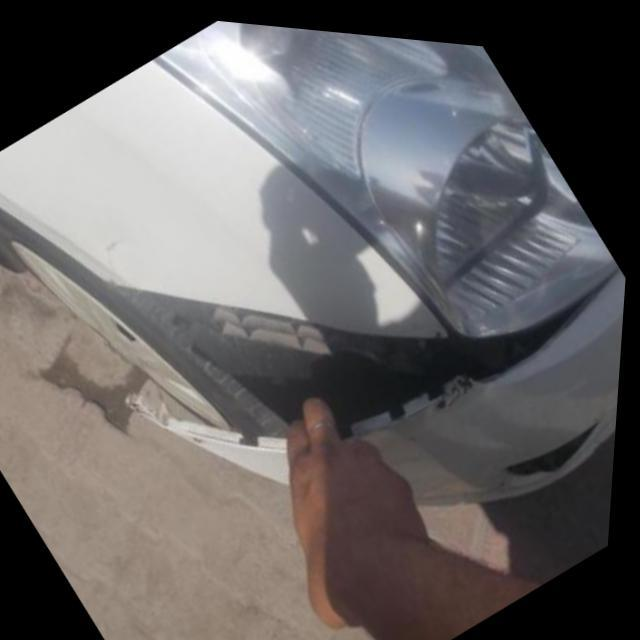dislocated part: (103, 256, 626, 446)
